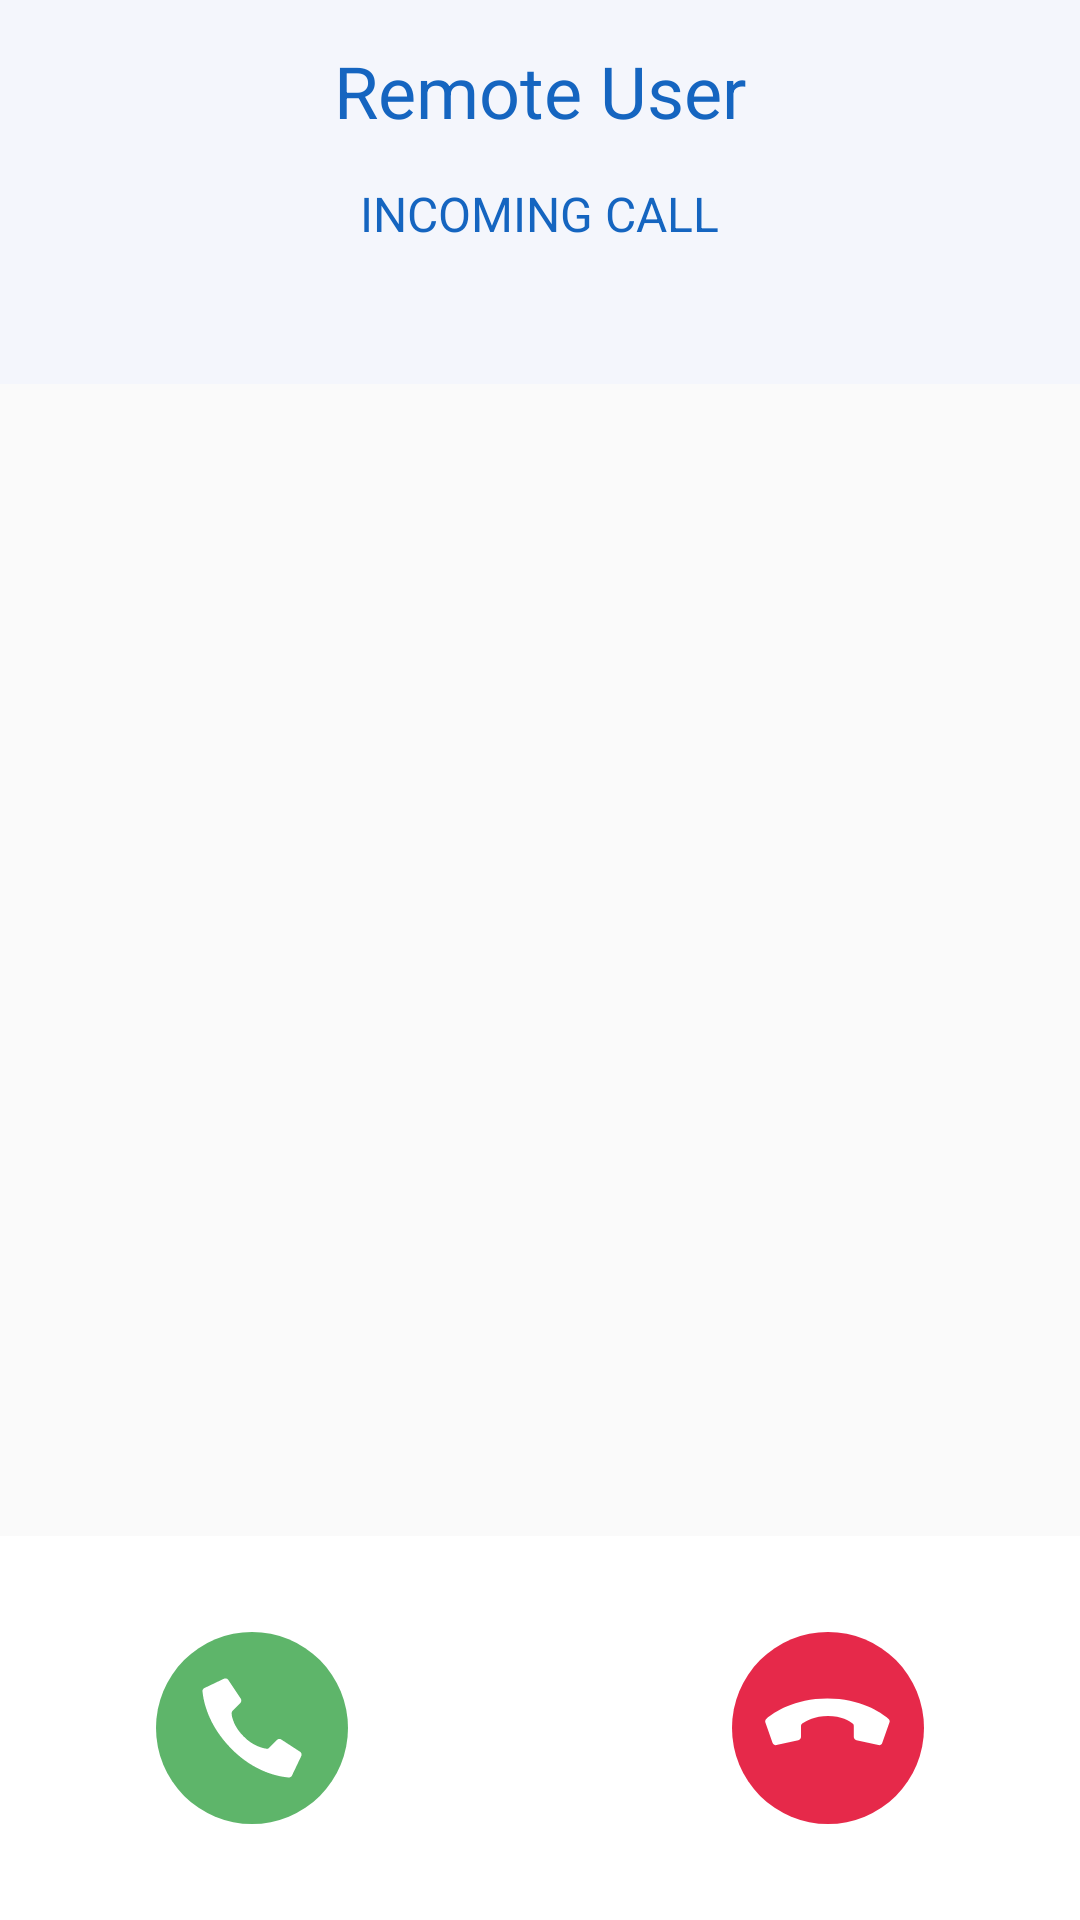

Icons on this 1080×1920 Android screen, each with the point to tap as (x=x, y=y):
answer: (x=252, y=1728)
